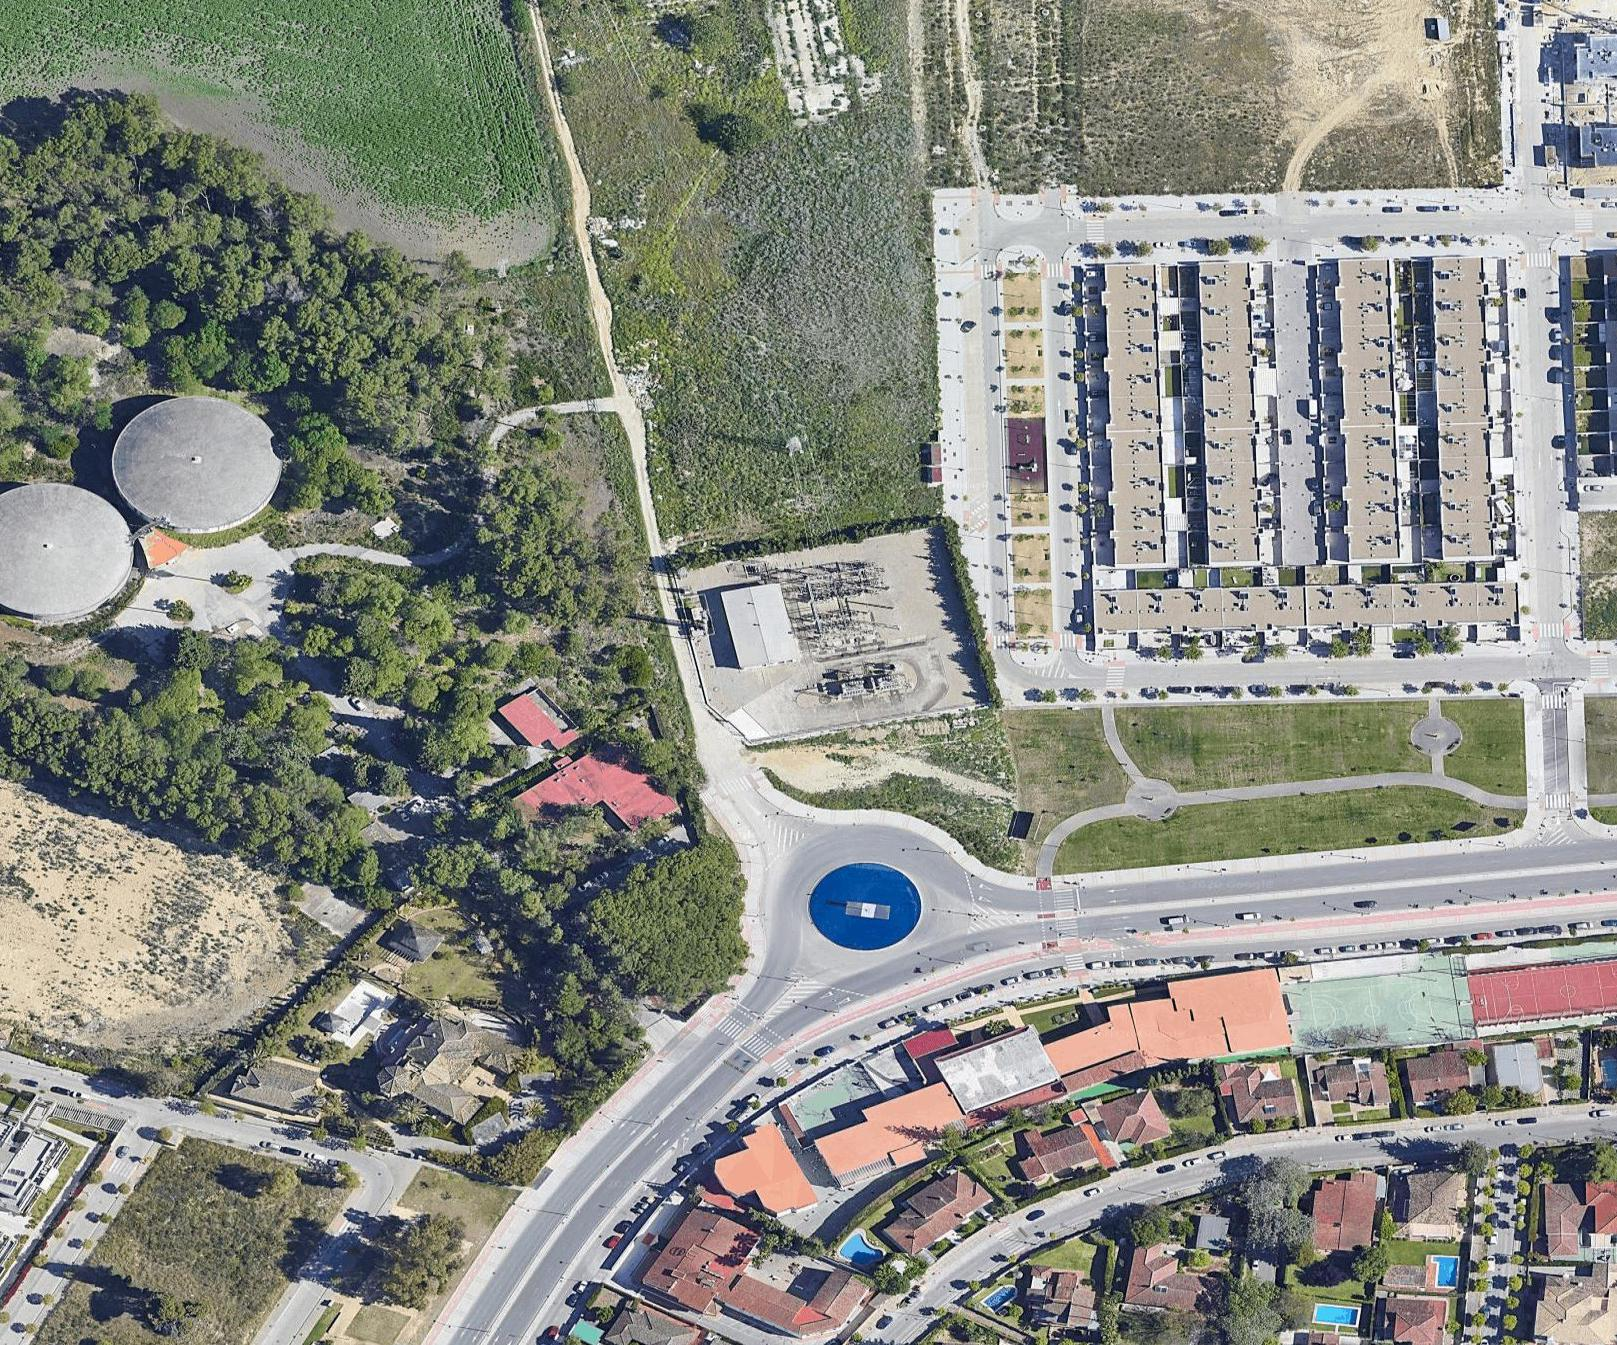storage-tank: (99, 391, 293, 540), (1, 480, 144, 625)
substation: (741, 547, 905, 705)
